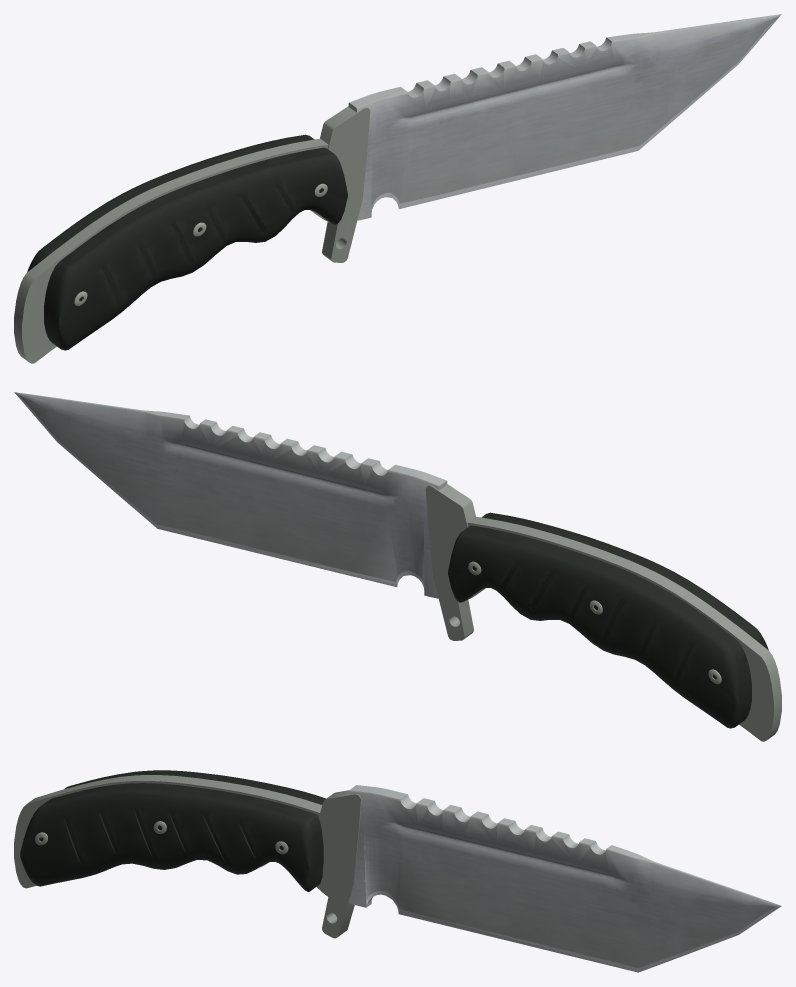
File: huntsman_lod1.glb
3 renders of one model, top to bottom at view 1: azimuth 30°, elevation 25°; view 2: azimuth 150°, elevation 25°; view 3: azimuth 330°, elevation 25°, orthographic.
Parts seen in each view (by area): view 1: body; view 2: body; view 3: body.
Part boxes in pixels (x1,y1,x2,y2): body: [14, 14, 781, 363]; body: [14, 392, 781, 741]; body: [14, 770, 781, 972].
Size of the model in its own units: 0.283 by 0.0637 by 0.026.
5 materials, 5 textured.
